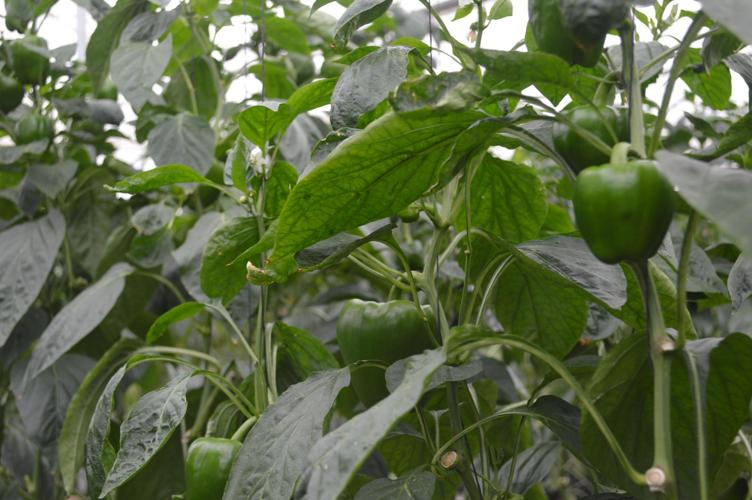BellPepper: (338, 299, 442, 410), (572, 159, 671, 263), (552, 102, 629, 166), (180, 436, 241, 498)
